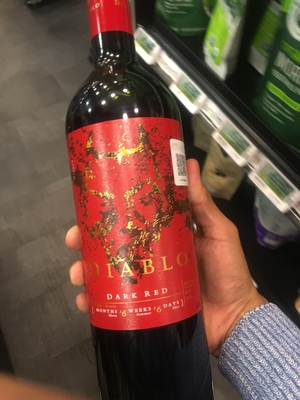diablo dark red: (59, 9, 208, 400)
